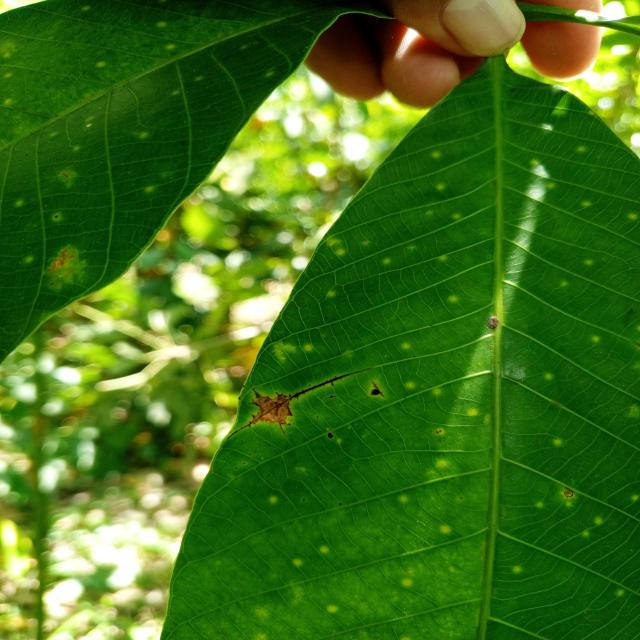Colletotrichum: (564, 489, 574, 497)
Corynespora: (228, 367, 374, 440), (370, 380, 385, 398)
